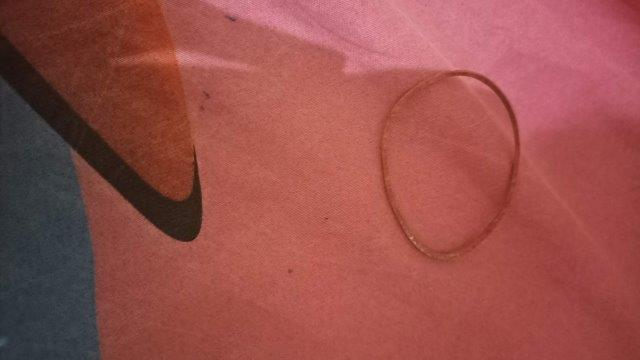karet: (381, 70, 521, 260)
